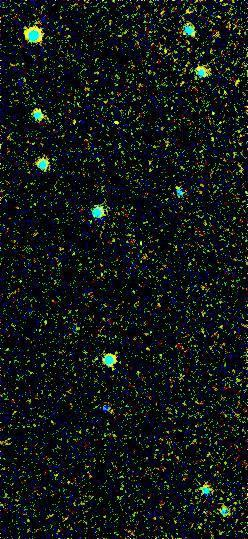star: (107, 100, 137, 130)
